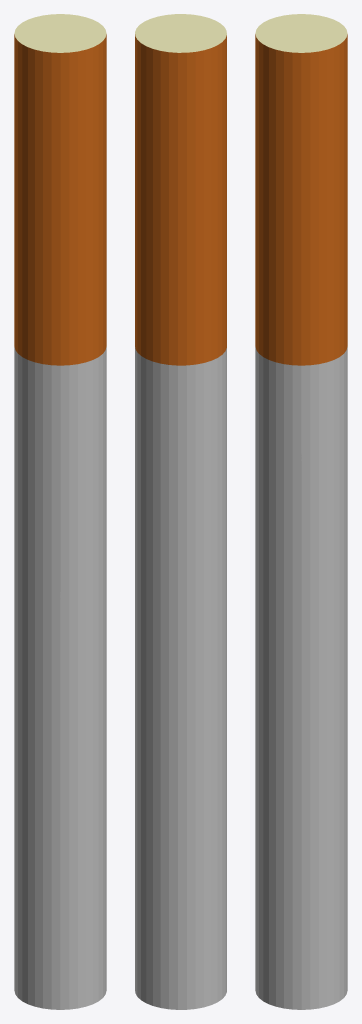
File: Cigarrillo.fbx
3 renders of one model, left to right at view 1: azimuth 90°, elevation 25°; view 2: azimuth 210°, elevation 25°; view 3: azimuth 270°, elevation 25°, orthographic.
Parts seen in each view (by area): view 1: Cigarrillo; view 2: Cigarrillo; view 3: Cigarrillo.
Boxes of the visible parts, x1,y1,x2,y2 form: Cigarrillo: (14,14,106,1009); Cigarrillo: (135,14,226,1009); Cigarrillo: (255,14,347,1009).
Size of the model in its own units: 1.49 by 17.11 by 1.49.
